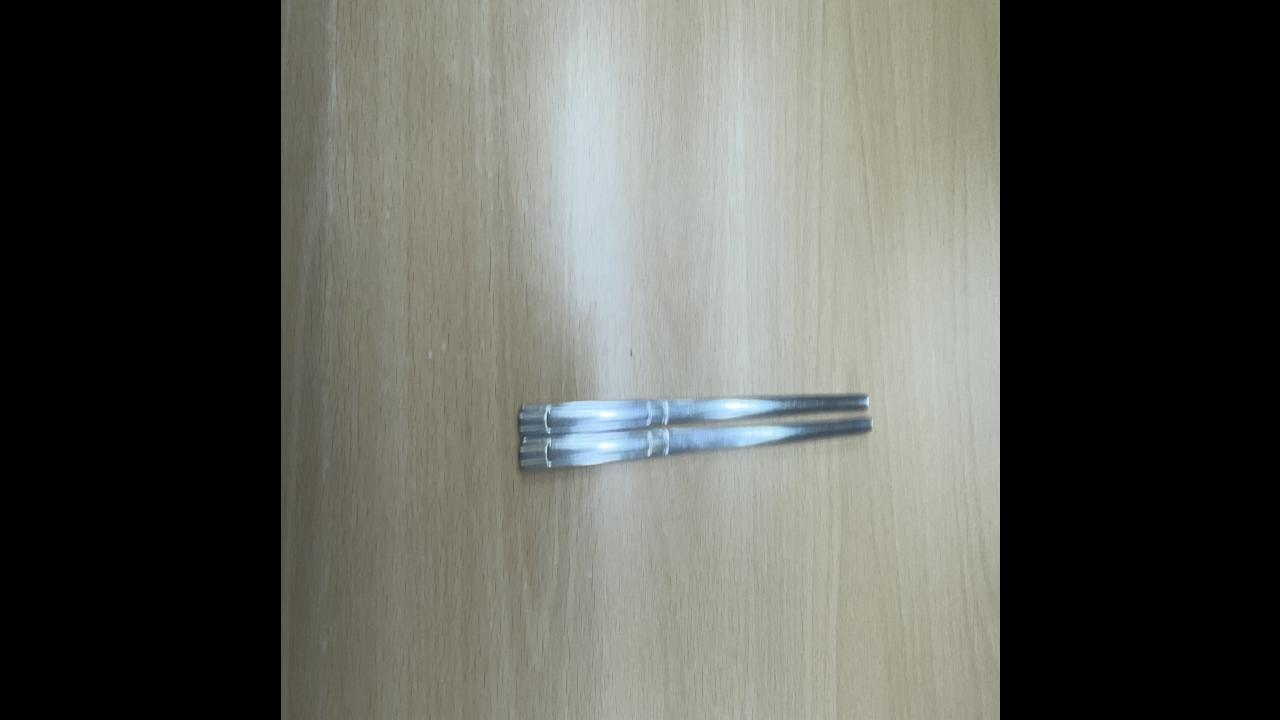chopstick: (512, 385, 874, 474)
